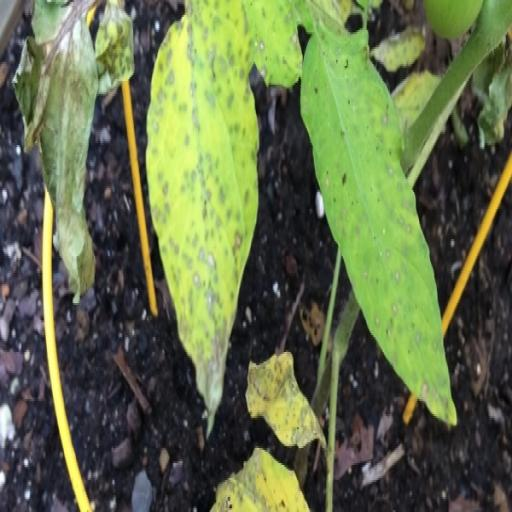disease_tomato: (297, 17, 460, 435), (144, 16, 260, 444), (242, 348, 326, 457)
